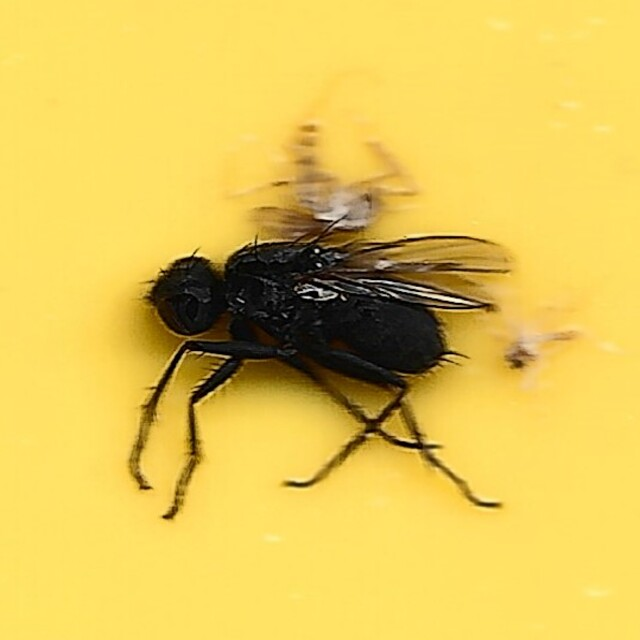Brachycera: (119, 229, 521, 533)
Nematocera: (247, 107, 407, 250)
